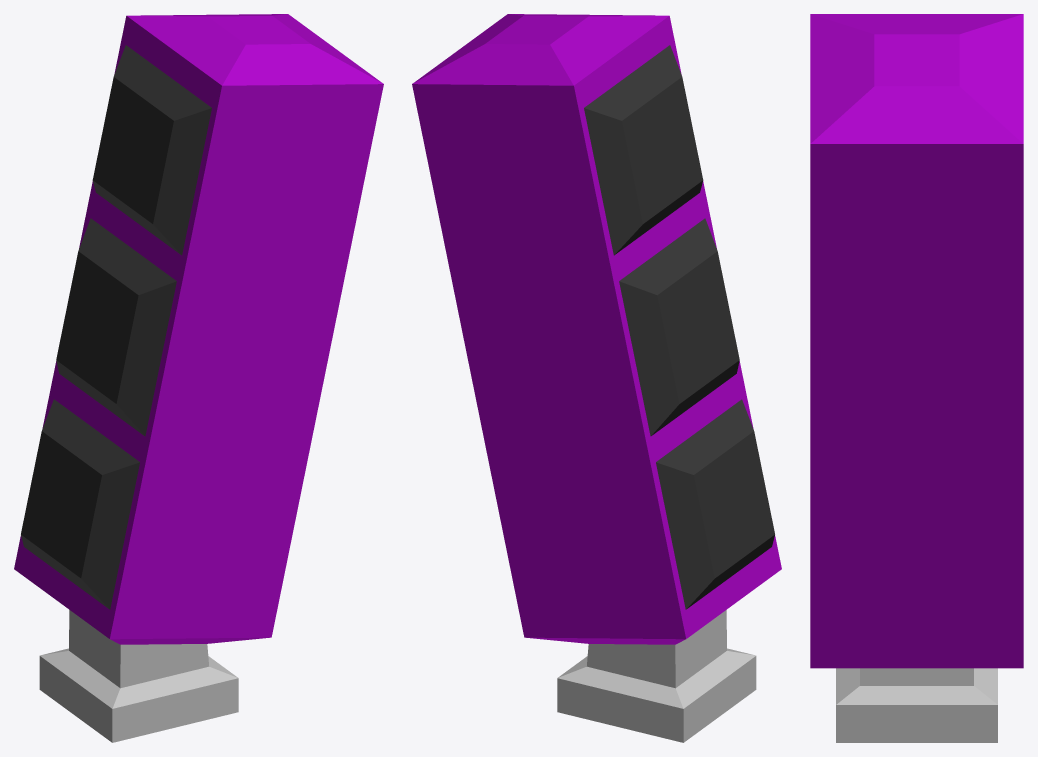
File: Speaker.fbx
The picture shows the model from 3 angles, left to right: view 1: azimuth 30°, elevation 25°; view 2: azimuth 150°, elevation 25°; view 3: azimuth 270°, elevation 25°; orthographic projection. The views are drawn at different scales.
Parts seen in each view (by area): view 1: Cube.001; view 2: Cube.001; view 3: Cube.001.
Boxes of the visible parts, bbox=[...] form: Cube.001: bbox=[14, 14, 383, 742]; Cube.001: bbox=[412, 14, 781, 742]; Cube.001: bbox=[810, 14, 1023, 742].
Size of the model in its own units: 111 by 241 by 64.41.
